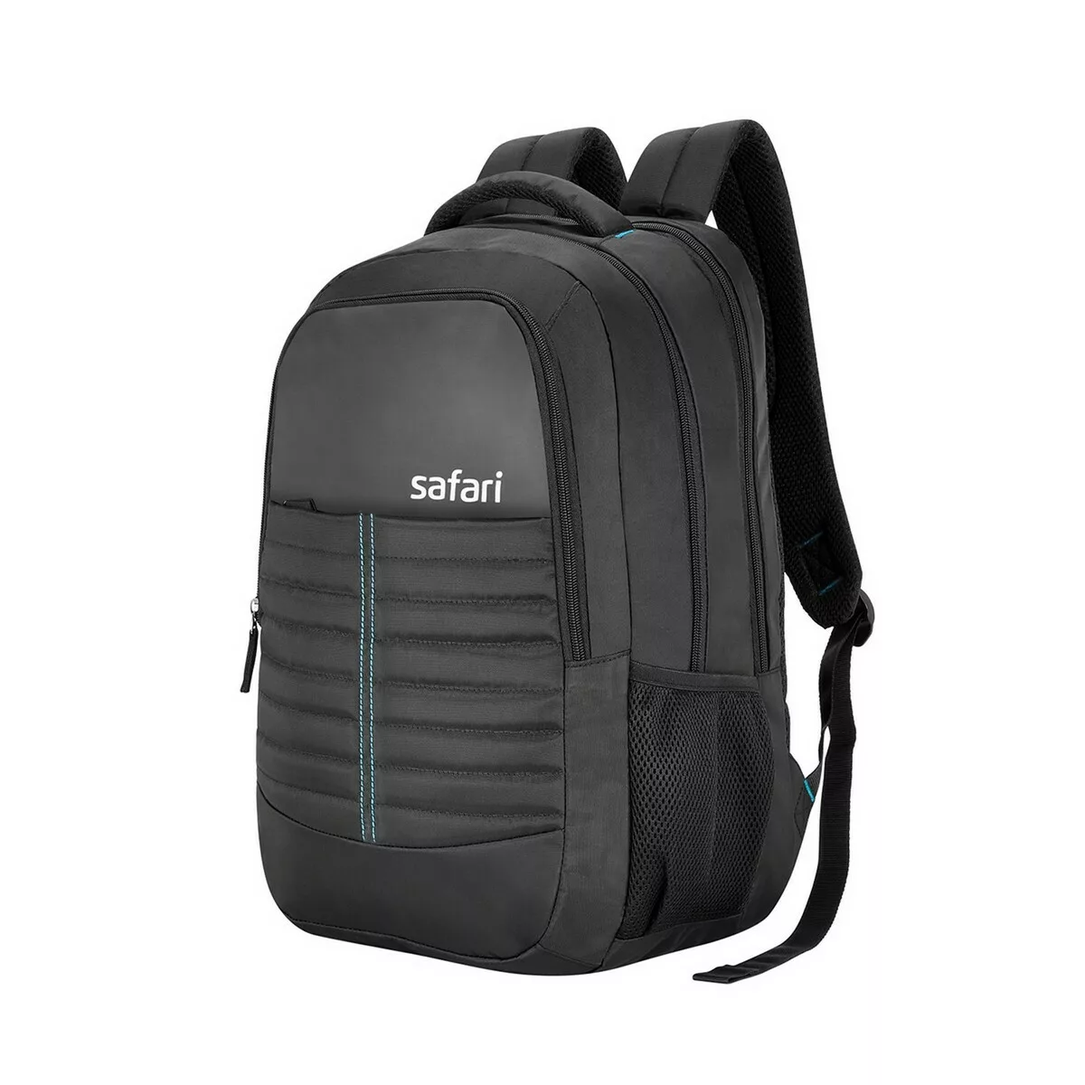backpack: (241, 118, 874, 985)
